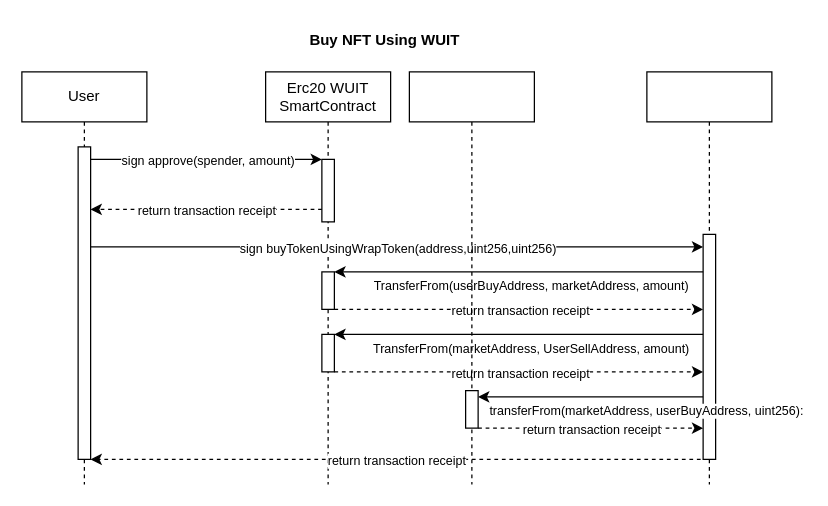
The diagram is 828 pixels wide and 506 high, and some of its shapes have lost their labels. The shapes that lost their labels are listed below. From the top down, each one's centre as x and y in pixels, then its label:
(x=471, y=277): NFT Collection SmartContract
(x=709, y=277): IE104 Market SmartContract
